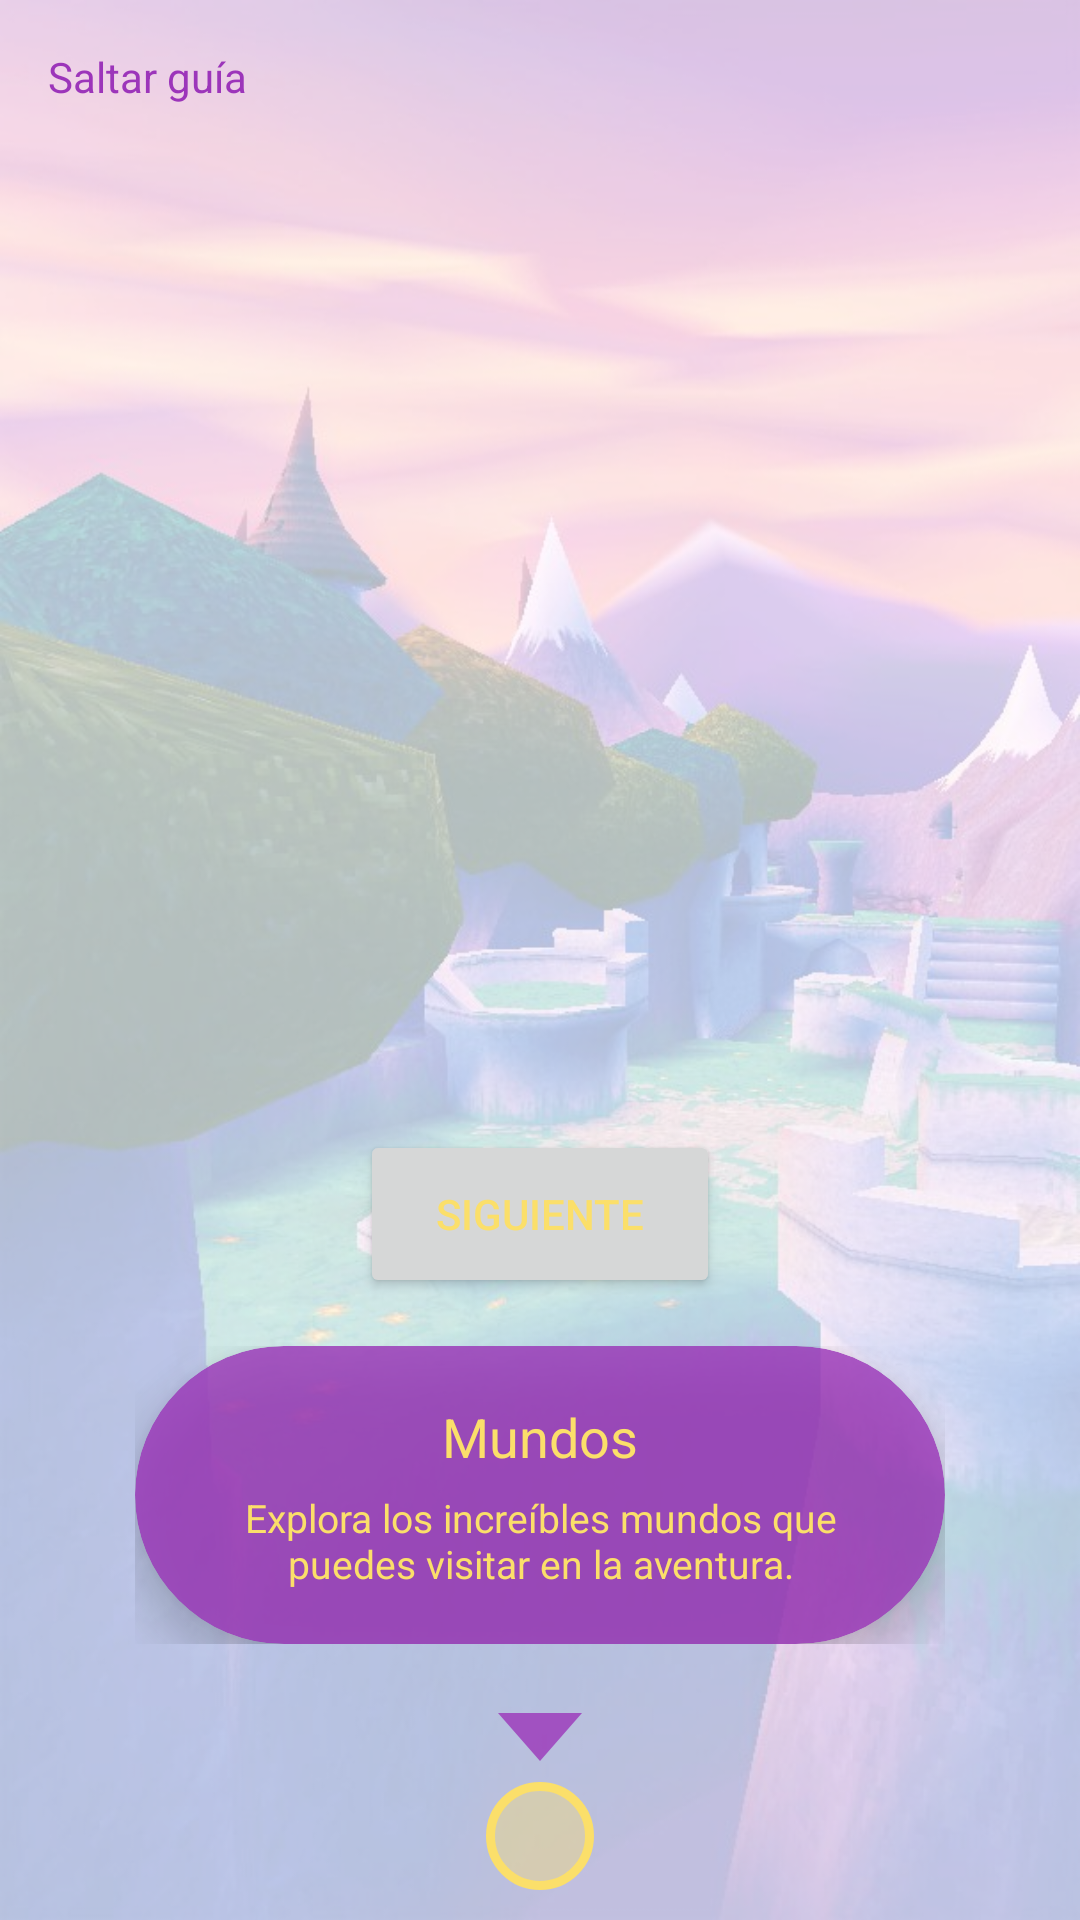

Named icons in this screenshot (1080x1920) and their centers, point (x, y):
guide arrow down: point (540, 1737)
